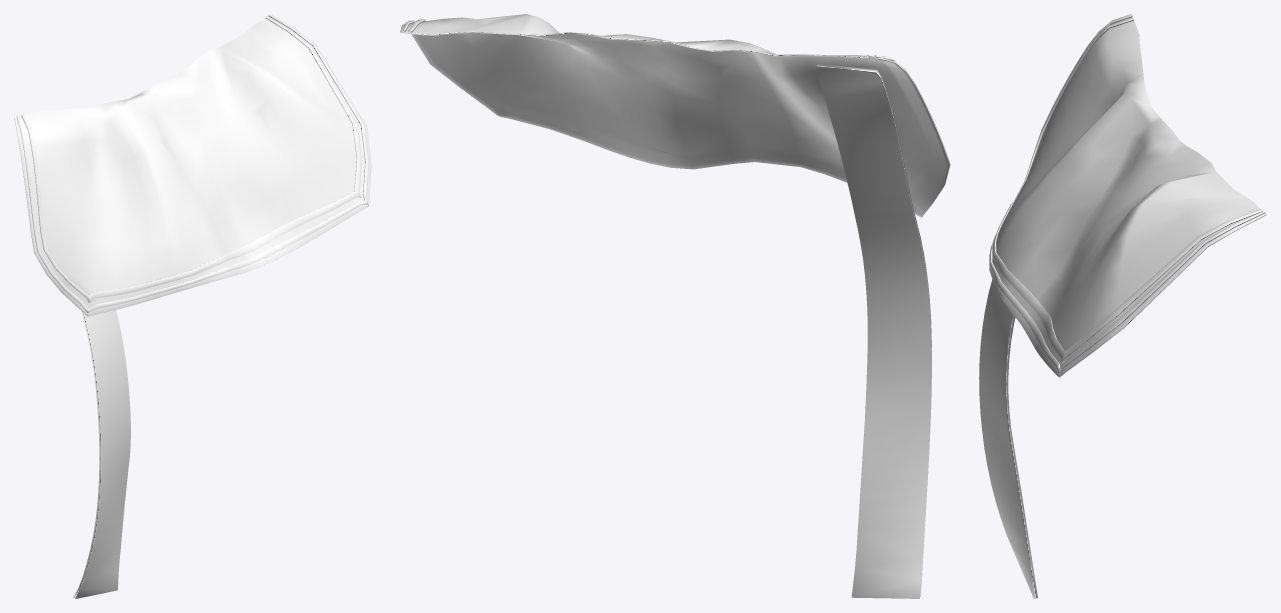
Rendered from Jac_Pocket_RIGHT_V2.glb.
3 views of the same model, side by side, from view 1: azimuth 30°, elevation 25°; view 2: azimuth 150°, elevation 25°; view 3: azimuth 270°, elevation 25° (orthographic). The views are drawn at different scales.
Visible parts, largest first — view 1: Jac_Pocket_RIGHT_V1.003, Jac_Pocket_RIGHT_V2_1.001, Jac_Rope_Pocket_RIGHT_V1.003; view 2: Jac_Pocket_RIGHT_V1.003, Jac_Pocket_RIGHT_V2_1.001; view 3: Jac_Pocket_RIGHT_V1.003, Jac_Pocket_RIGHT_V2_1.001, Jac_Rope_Pocket_RIGHT_V1.003.
Part boxes in pixels (<box>): Jac_Pocket_RIGHT_V1.003: <box>14,17,371,316</box>; Jac_Pocket_RIGHT_V2_1.001: <box>73,310,130,598</box>; Jac_Rope_Pocket_RIGHT_V1.003: <box>16,14,369,312</box>; Jac_Pocket_RIGHT_V1.003: <box>400,14,950,217</box>; Jac_Pocket_RIGHT_V2_1.001: <box>816,63,931,598</box>; Jac_Pocket_RIGHT_V1.003: <box>989,14,1266,377</box>; Jac_Pocket_RIGHT_V2_1.001: <box>979,279,1037,598</box>; Jac_Rope_Pocket_RIGHT_V1.003: <box>989,14,1265,373</box>.
Bounding box in the file's own units: 0.2129 × 0.2552 × 0.121.
Materials: 3 (3 with a texture image).
